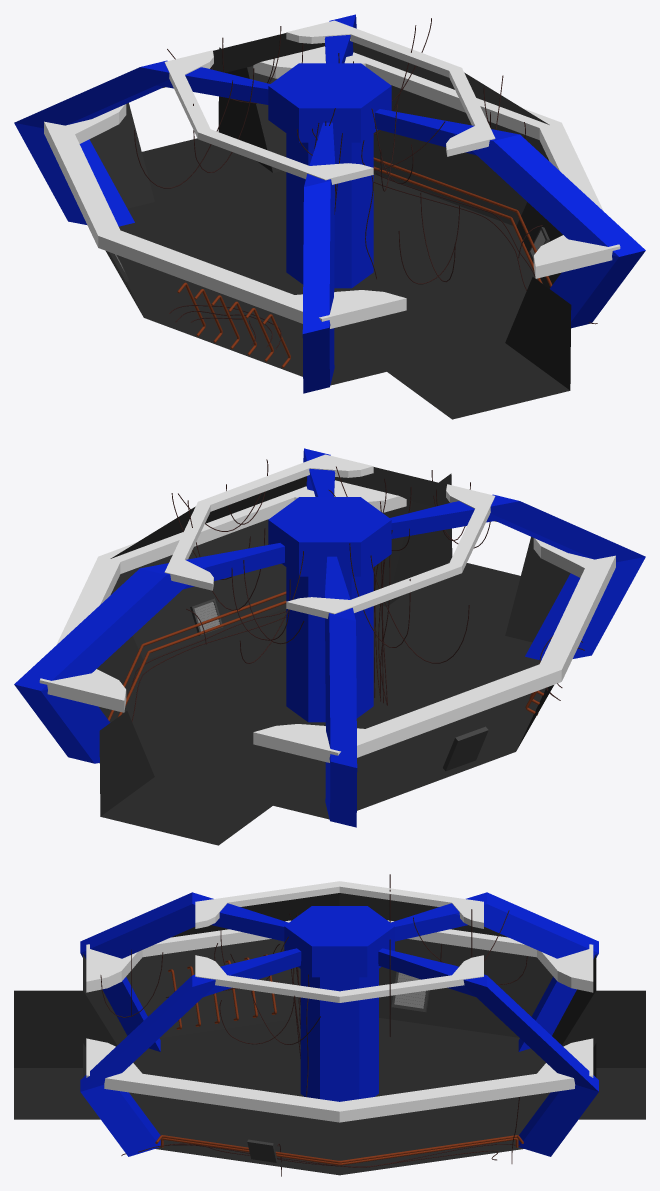
The model's file is Trial2.fbx.
3 renders of one model, top to bottom at view 1: azimuth 30°, elevation 25°; view 2: azimuth 150°, elevation 25°; view 3: azimuth 270°, elevation 25°, orthographic. The views are drawn at different scales.
Parts seen in each view (by area): view 1: Sector2, BlueColumnLights, SideLights, MainColumn, RoofLights, Cables, Pipe1, Pipe2, Pipe3; view 2: Sector2, BlueColumnLights, SideLights, MainColumn, RoofLights, Cables, Plane, Pipe2, Pipe3, Plane.001; view 3: Sector2, BlueColumnLights, SideLights, MainColumn, RoofLights, Cables, Pipe2, Pipe3, Plane, Pipe1, Plane.001.
Part boxes in pixels (x1=…): Sector2: x1=89, y1=33, x2=571, y2=419; BlueColumnLights: x1=14, y1=14, x2=645, y2=393; SideLights: x1=44, y1=46, x2=620, y2=328; MainColumn: x1=268, y1=63, x2=391, y2=288; RoofLights: x1=164, y1=20, x2=495, y2=184; Cables: x1=134, y1=18, x2=597, y2=348; Pipe1: x1=177, y1=282, x2=290, y2=367; Pipe2: x1=373, y1=157, x2=552, y2=287; Pipe3: x1=373, y1=166, x2=542, y2=283; Sector2: x1=97, y1=467, x2=570, y2=845; BlueColumnLights: x1=14, y1=448, x2=645, y2=827; SideLights: x1=39, y1=480, x2=615, y2=762; MainColumn: x1=268, y1=497, x2=391, y2=722; RoofLights: x1=164, y1=454, x2=495, y2=618; Cables: x1=130, y1=459, x2=584, y2=721; Plane: x1=443, y1=726, x2=488, y2=771; Pipe2: x1=107, y1=591, x2=286, y2=720; Pipe3: x1=118, y1=600, x2=286, y2=716; Plane.001: x1=190, y1=598, x2=222, y2=635; Sector2: x1=14, y1=893, x2=645, y2=1175; BlueColumnLights: x1=80, y1=892, x2=598, y2=1156; SideLights: x1=86, y1=920, x2=593, y2=1122; MainColumn: x1=284, y1=906, x2=394, y2=1101; RoofLights: x1=195, y1=881, x2=483, y2=1002; Cables: x1=100, y1=874, x2=527, y2=1176; Pipe2: x1=155, y1=1135, x2=523, y2=1163; Pipe3: x1=161, y1=1137, x2=518, y2=1165; Plane: x1=391, y1=972, x2=429, y2=1012; Pipe1: x1=168, y1=954, x2=276, y2=1029; Plane.001: x1=247, y1=1139, x2=277, y2=1162.
Bounding box in the file's own units: 3561 × 1776 × 4681.
